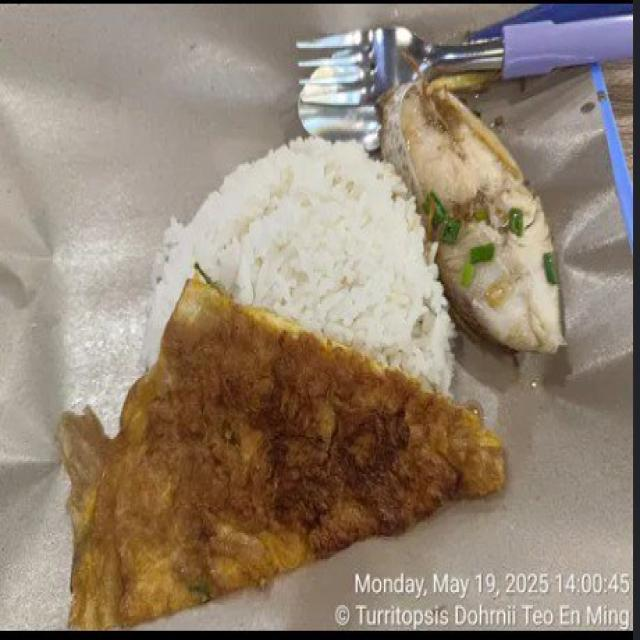Egg: (61, 275, 505, 627)
Fish: (381, 79, 563, 352)
Rice: (143, 138, 454, 393)
